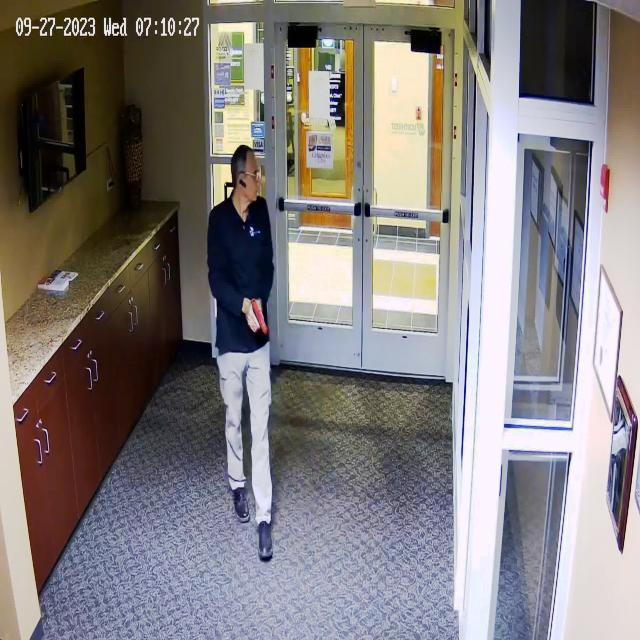Gun: (239, 296, 274, 342)
